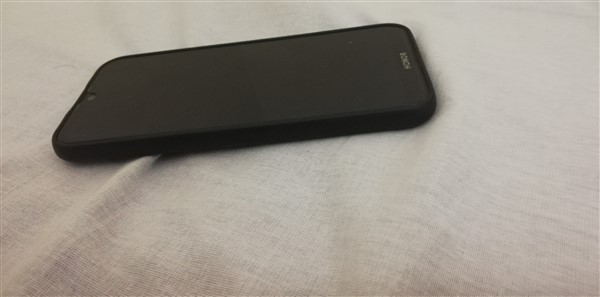telefon: (48, 21, 445, 163)
